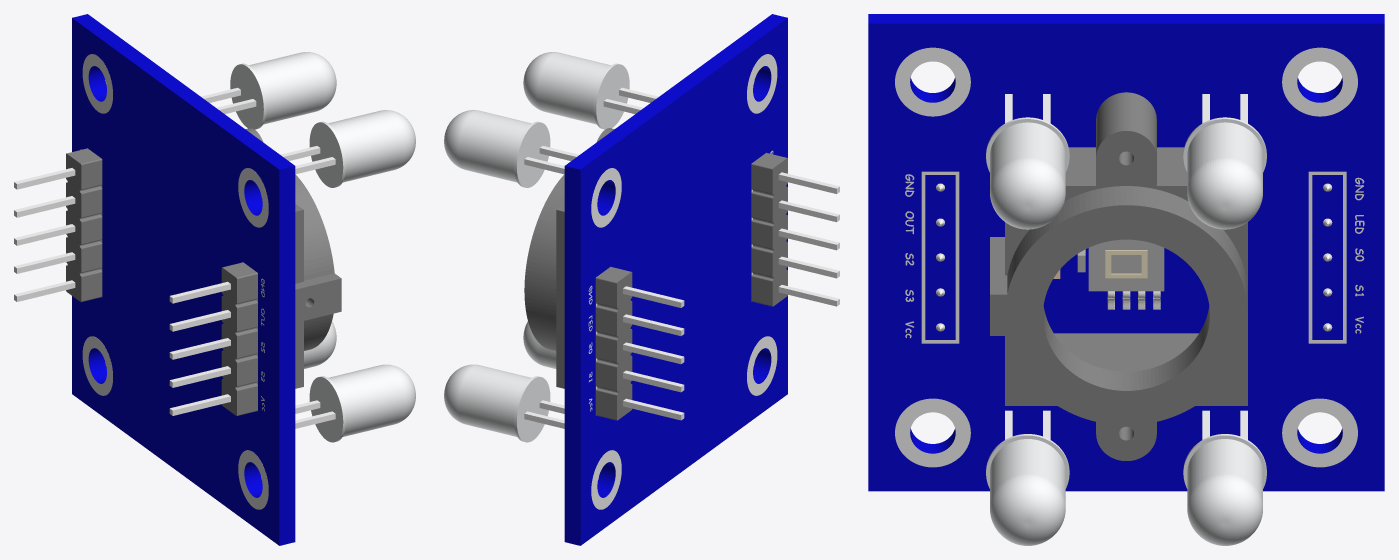
The model's file is tcs3200_color_sensor.glb.
The picture shows the model from 3 angles, left to right: view 1: azimuth 30°, elevation 25°; view 2: azimuth 150°, elevation 25°; view 3: azimuth 270°, elevation 25°; orthographic projection. The views are drawn at different scales.
Parts seen in each view (by area): view 1: Node6, Node9, Node7, Node5, Node1, Node4, Node3, Node2, Node8; view 2: Node6, Node9, Node7, Node1, Node4, Node5, Node2, Node8, Node3; view 3: Node6, Node7, Node9, Node5, Node1, Node10, Node3, Node4, Node11.
Boxes of the visible parts, left/top/right/bottom form: Node6: left=72, top=14, right=295, bottom=545; Node9: left=230, top=52, right=415, bottom=442; Node7: left=66, top=128, right=341, bottom=415; Node5: left=14, top=182, right=319, bottom=408; Node1: left=82, top=54, right=319, bottom=509; Node4: left=14, top=101, right=335, bottom=423; Node3: left=14, top=148, right=335, bottom=411; Node2: left=14, top=198, right=264, bottom=410; Node8: left=14, top=196, right=335, bottom=485; Node6: left=564, top=14, right=787, bottom=545; Node9: left=444, top=52, right=629, bottom=442; Node7: left=524, top=128, right=787, bottom=420; Node1: left=525, top=99, right=839, bottom=395; Node4: left=525, top=54, right=839, bottom=423; Node5: left=524, top=90, right=684, bottom=509; Node2: left=588, top=153, right=839, bottom=407; Node8: left=524, top=159, right=839, bottom=335; Node3: left=588, top=87, right=839, bottom=419; Node6: left=868, top=14, right=1384, bottom=491; Node7: left=990, top=92, right=1247, bottom=460; Node9: left=986, top=117, right=1266, bottom=545; Node5: left=895, top=47, right=1364, bottom=467; Node1: left=905, top=94, right=1363, bottom=467; Node10: left=1077, top=239, right=1164, bottom=291; Node3: left=895, top=47, right=1363, bottom=331; Node4: left=905, top=171, right=1363, bottom=439; Node11: left=1105, top=250, right=1147, bottom=278.
Bounding box in the file's own units: 26 × 34 × 34.
